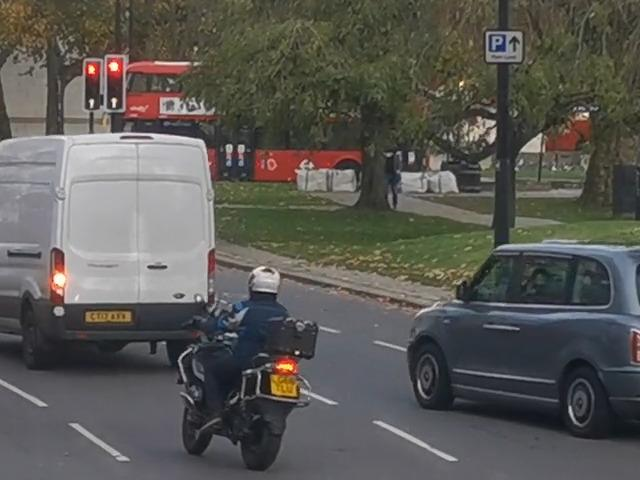car: (0, 130, 216, 361), (408, 240, 640, 431)
motorcycle: (182, 268, 322, 477)
